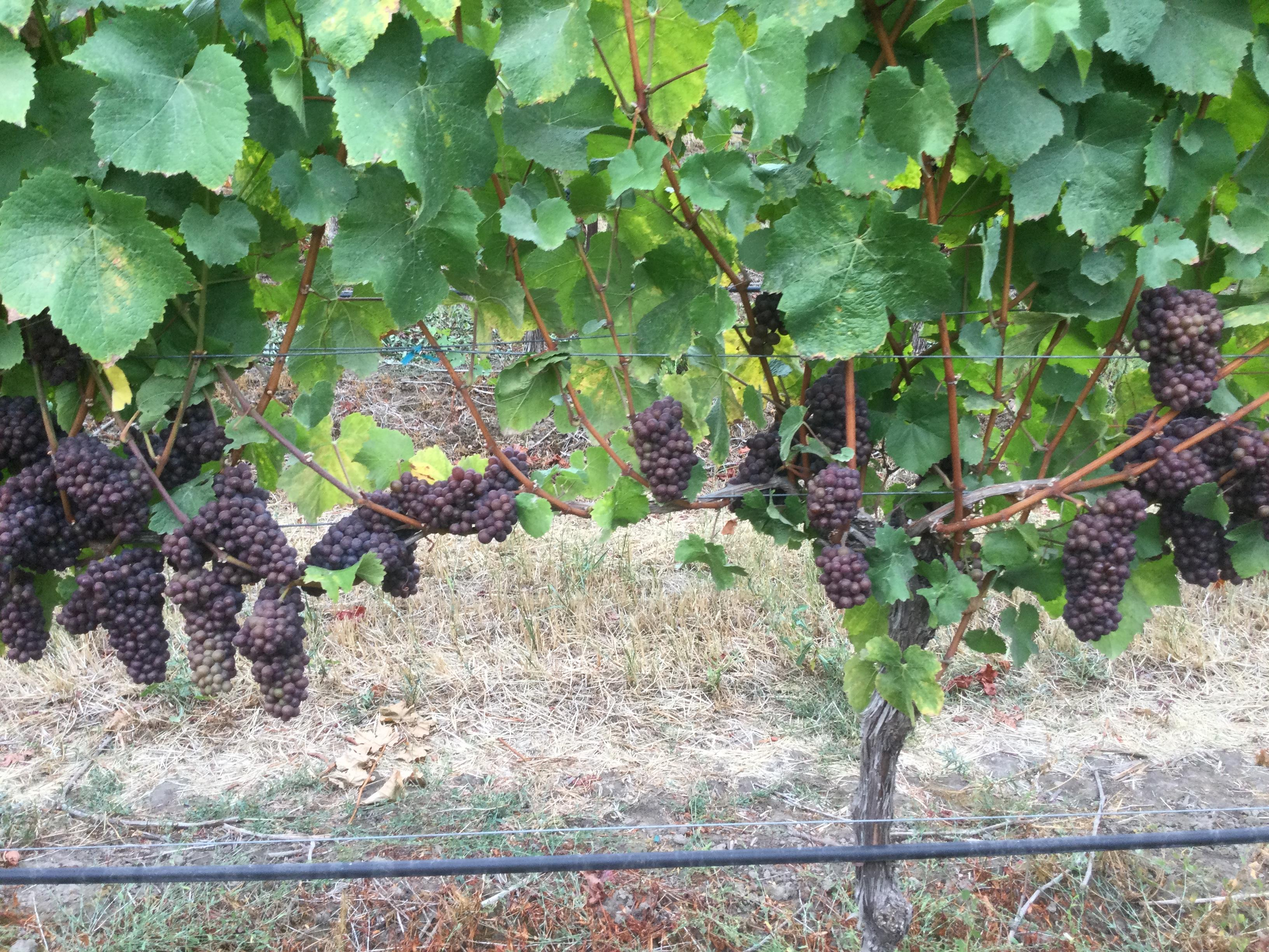leaf: (0, 170, 191, 360), (330, 17, 496, 219), (67, 9, 248, 187), (764, 186, 950, 358), (332, 164, 481, 326), (1011, 93, 1152, 246), (288, 249, 395, 392), (0, 63, 105, 200), (707, 17, 806, 149), (633, 0, 714, 133), (1140, 0, 1253, 94), (493, 0, 594, 103), (502, 78, 614, 170), (968, 58, 1062, 164), (1091, 555, 1181, 658), (867, 60, 956, 156), (1157, 118, 1236, 220), (797, 55, 870, 164), (296, 0, 399, 68), (863, 635, 944, 720), (268, 150, 357, 224), (988, 0, 1080, 70), (816, 125, 908, 195), (495, 355, 567, 432), (886, 388, 950, 472), (180, 200, 259, 265), (679, 151, 762, 211), (589, 0, 637, 103), (500, 185, 575, 249), (277, 459, 353, 521), (306, 418, 370, 488), (918, 555, 978, 625), (865, 525, 917, 604), (1098, 0, 1164, 61), (1138, 220, 1197, 286), (353, 427, 414, 490), (747, 0, 856, 35), (1208, 193, 1268, 254), (608, 136, 668, 195), (0, 30, 36, 126), (591, 475, 650, 530), (998, 603, 1039, 666), (842, 598, 889, 651), (1225, 522, 1268, 578), (1183, 482, 1229, 526), (981, 527, 1031, 567), (843, 651, 876, 710), (292, 381, 334, 427), (516, 492, 553, 537), (409, 446, 453, 482), (0, 0, 31, 37), (848, 694, 857, 705), (1133, 0, 1143, 3), (271, 262, 273, 269), (963, 446, 967, 448), (1227, 322, 1229, 325), (274, 257, 276, 260), (1069, 0, 1073, 1), (822, 168, 823, 170), (1112, 21, 1113, 22), (1028, 526, 1029, 527), (351, 415, 355, 415), (645, 140, 645, 140), (945, 474, 949, 474), (1033, 529, 1033, 532)
